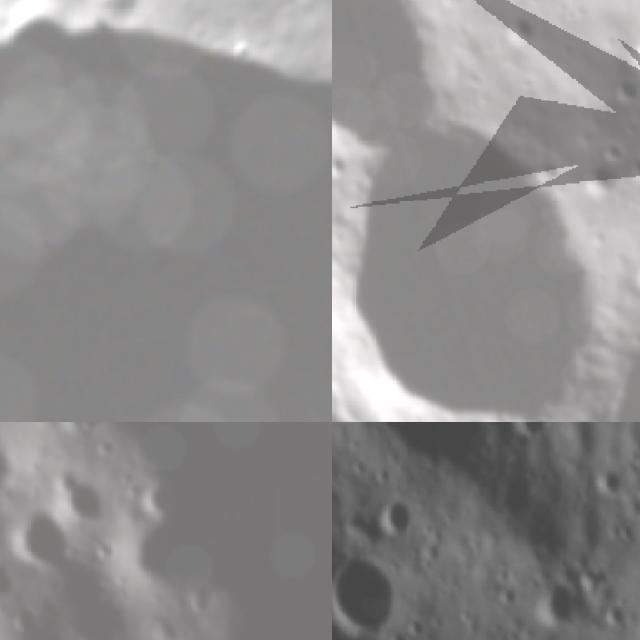crater: (0, 0, 332, 422), (332, 86, 640, 422), (332, 0, 486, 186), (332, 562, 403, 640), (486, 4, 550, 62), (3, 515, 77, 562), (612, 8, 640, 102), (576, 154, 625, 201), (57, 475, 108, 516), (588, 128, 634, 173), (532, 580, 576, 626), (597, 67, 640, 111), (378, 498, 410, 544), (617, 144, 640, 198), (2, 607, 48, 634), (0, 422, 18, 488), (622, 242, 640, 299), (184, 584, 216, 616), (509, 422, 560, 435), (66, 422, 105, 437), (0, 563, 17, 596), (597, 467, 616, 495), (403, 614, 425, 637), (457, 609, 471, 630), (493, 561, 506, 580)
